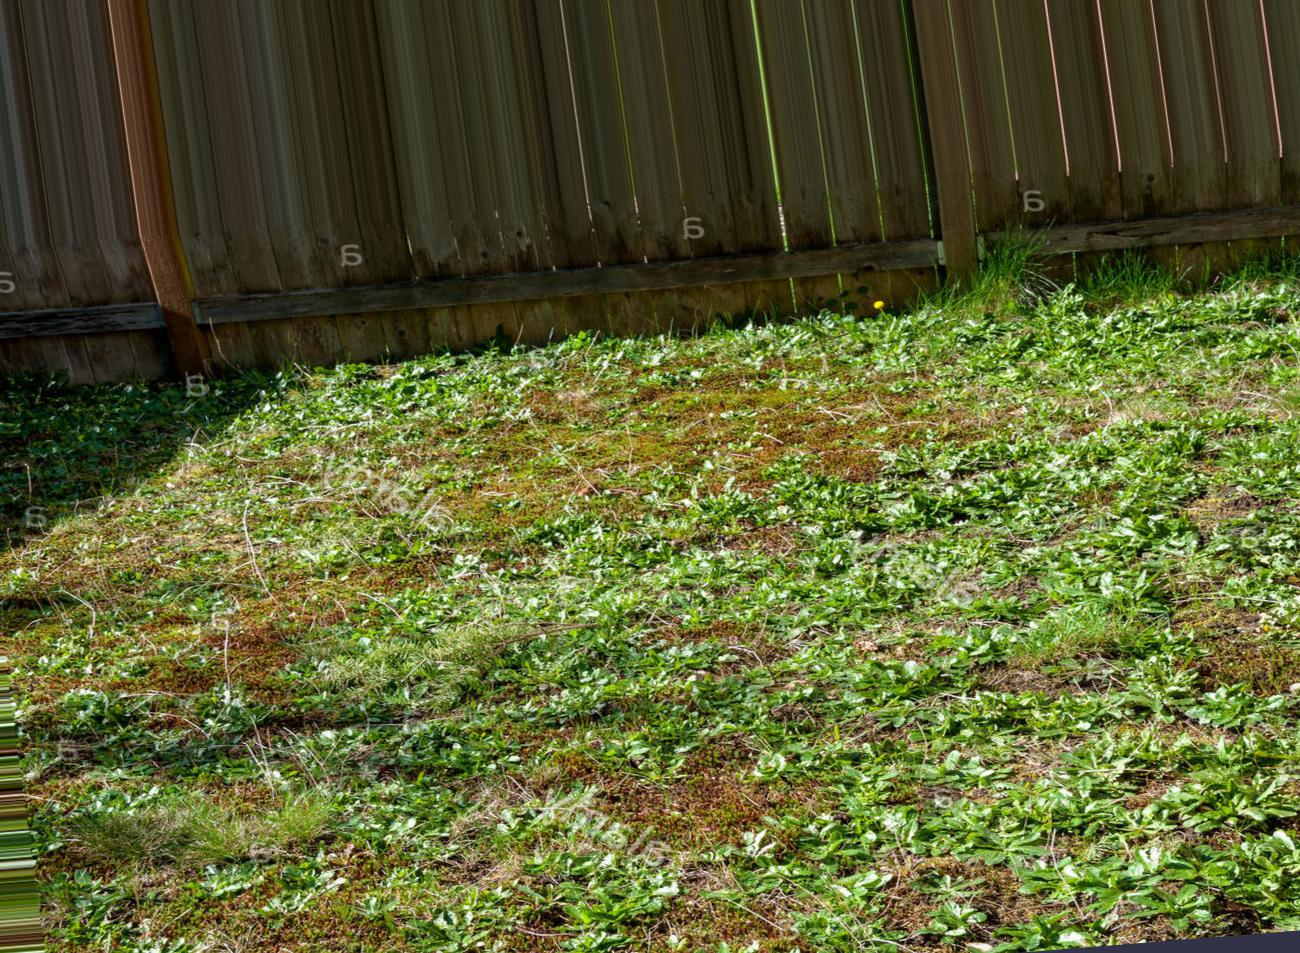patch: (750, 399, 935, 506), (395, 451, 560, 554), (615, 769, 737, 871), (537, 414, 672, 494), (220, 609, 315, 676), (667, 894, 746, 953)
